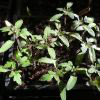Tomato leaf: (9, 69, 24, 86), (66, 72, 78, 91), (0, 38, 14, 54), (88, 44, 98, 66), (81, 23, 96, 37), (56, 80, 67, 99), (74, 51, 85, 70), (58, 60, 75, 71), (58, 33, 70, 48), (65, 32, 83, 41), (49, 12, 65, 22), (46, 46, 56, 60), (39, 74, 53, 84), (1, 25, 16, 34), (37, 57, 56, 64), (22, 47, 33, 59), (14, 18, 23, 32), (20, 28, 33, 37), (44, 24, 51, 39), (54, 19, 62, 32), (65, 1, 73, 13), (66, 10, 74, 20), (4, 60, 15, 67)
